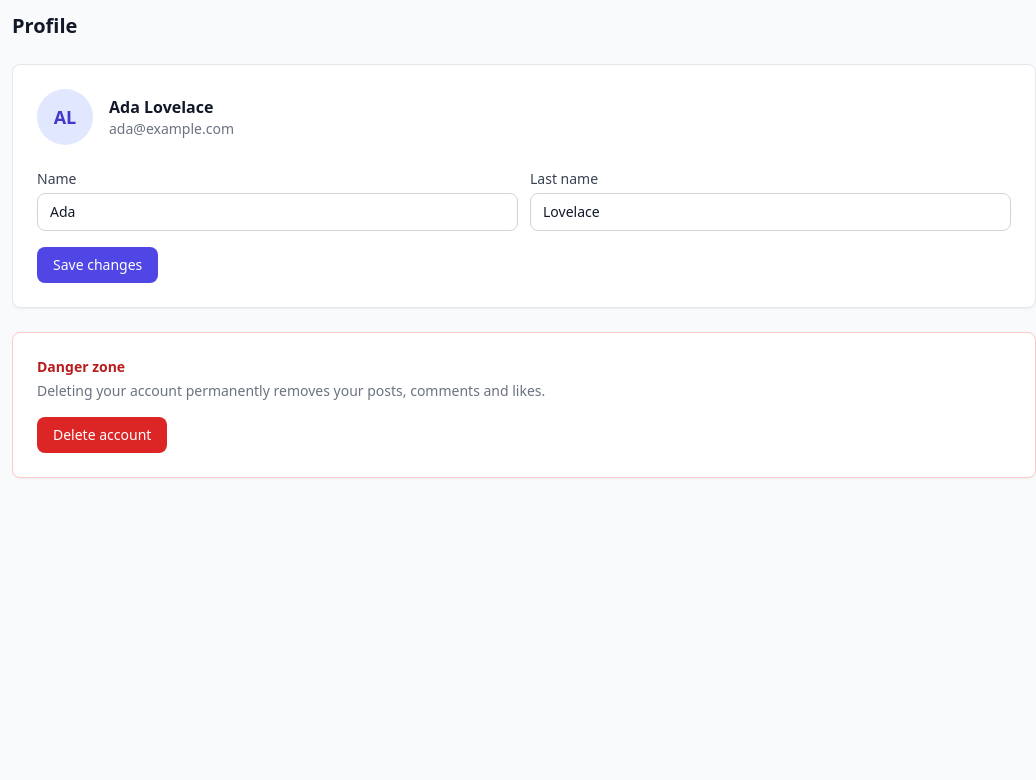
Scenario: MyProfilePage › shows an error banner when saving fails
Click the button "Save changes" at x=98, y=265, box 37,247 -> 158,283
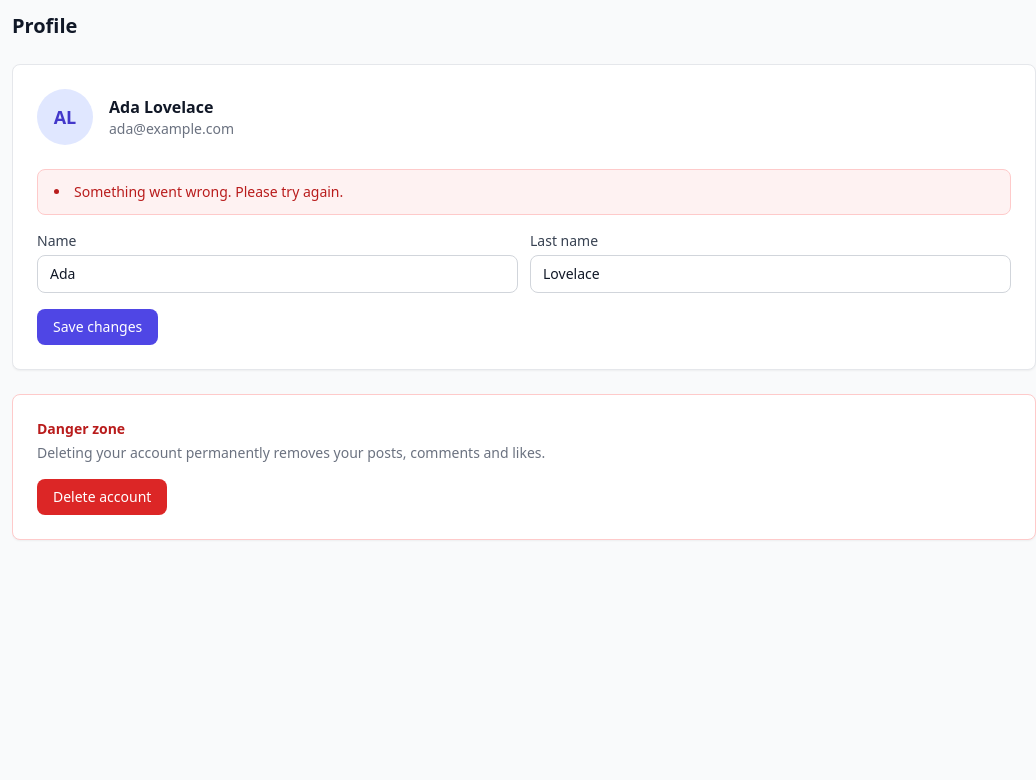
Result: the list item "Something went wrong. Please try again." is shown at 74,182 -> 343,201
